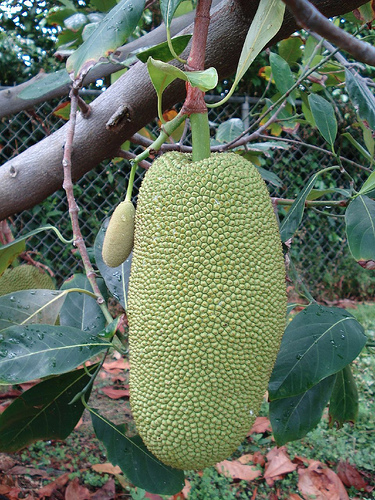jackfruit: (128, 148, 287, 473)
